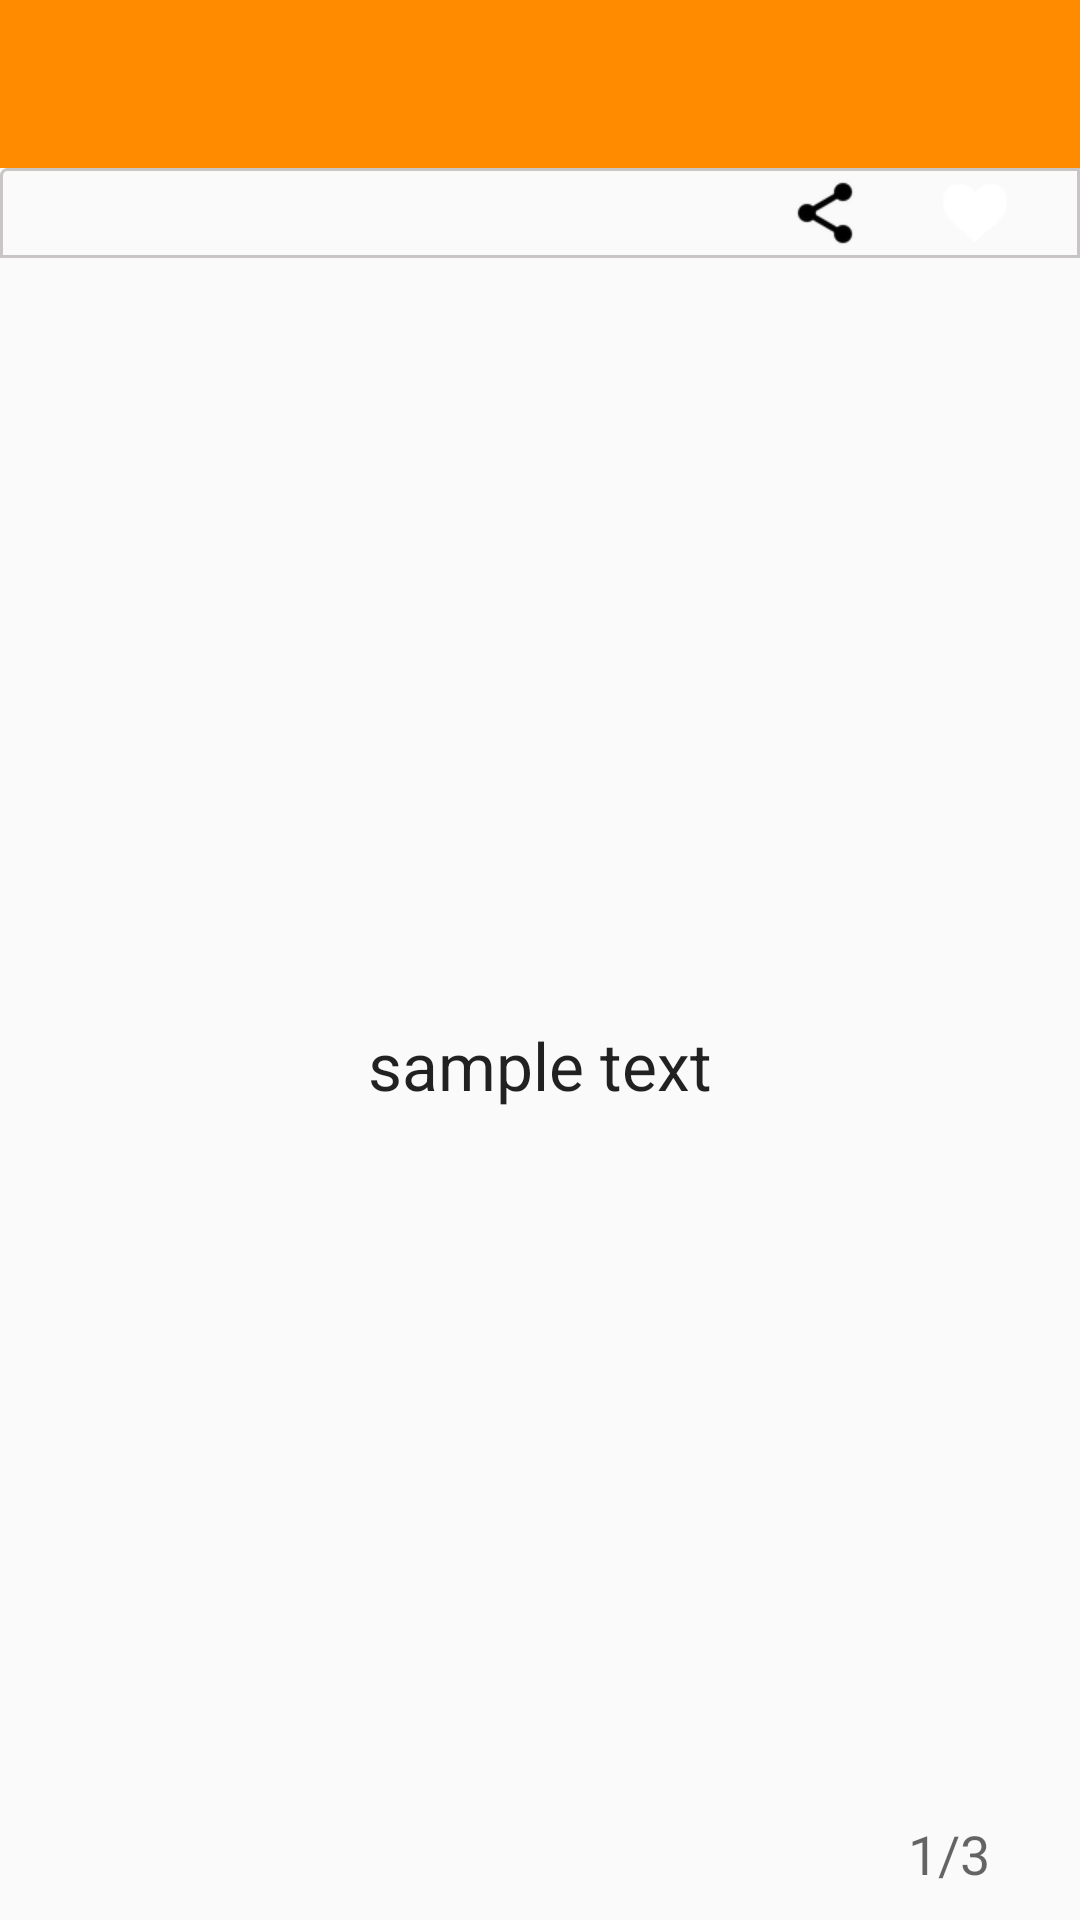

Icons on this 1080*1920 Android screen, each with its box as (x1, y1, x2, y2):
heart: (930, 168, 1020, 258)
share: (797, 182, 853, 244)
